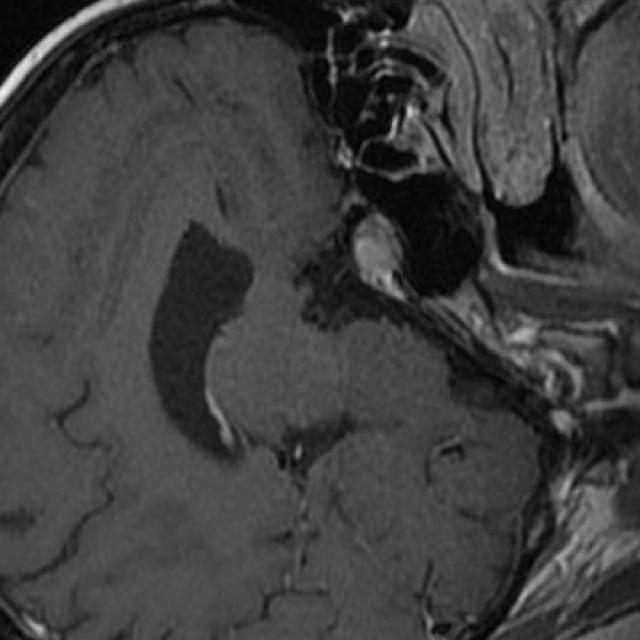pituitary: (353, 214, 403, 301)
